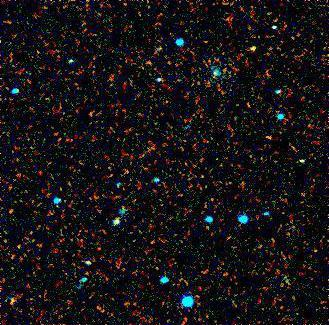star: (241, 37, 271, 67)
